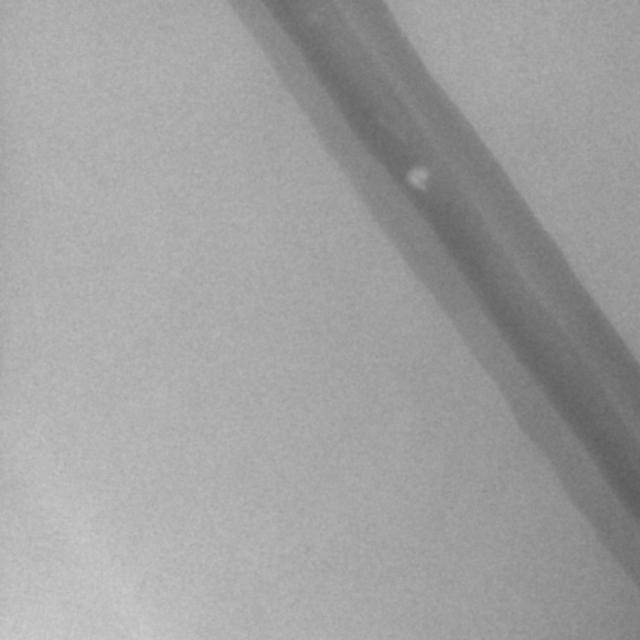slag inclusion: (405, 168, 429, 191)
